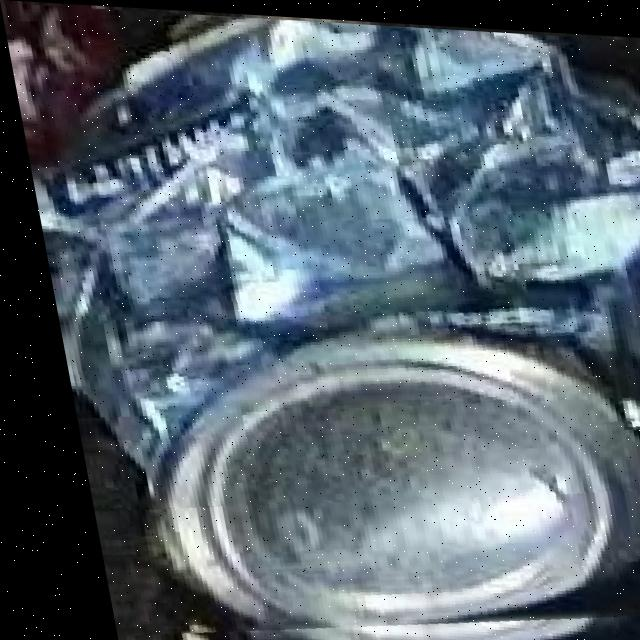can: (36, 12, 640, 629)
